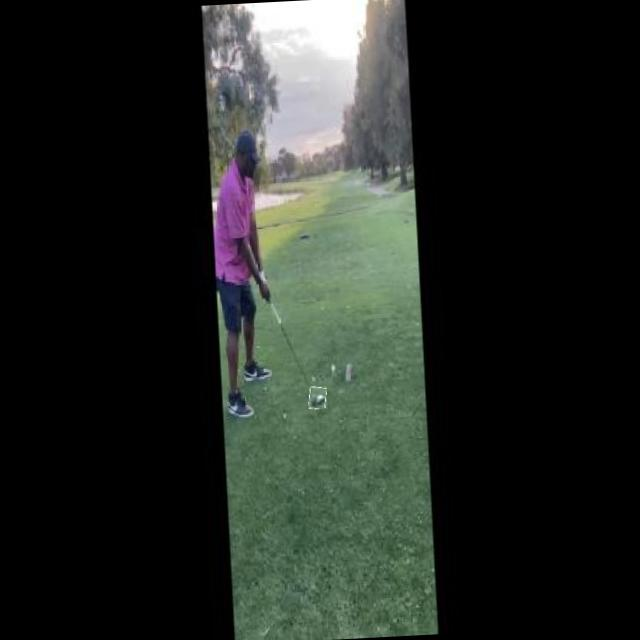club head: (308, 386, 328, 410)
